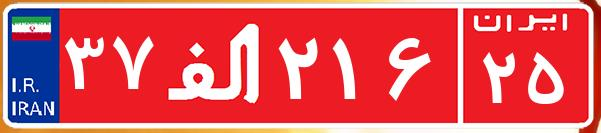1: (330, 28, 385, 110)
2: (273, 28, 330, 110), (475, 38, 525, 113)
3: (57, 26, 110, 107)
5: (525, 38, 570, 115)
6: (385, 28, 445, 110)
7: (110, 28, 158, 105)
الف: (158, 15, 273, 115)
